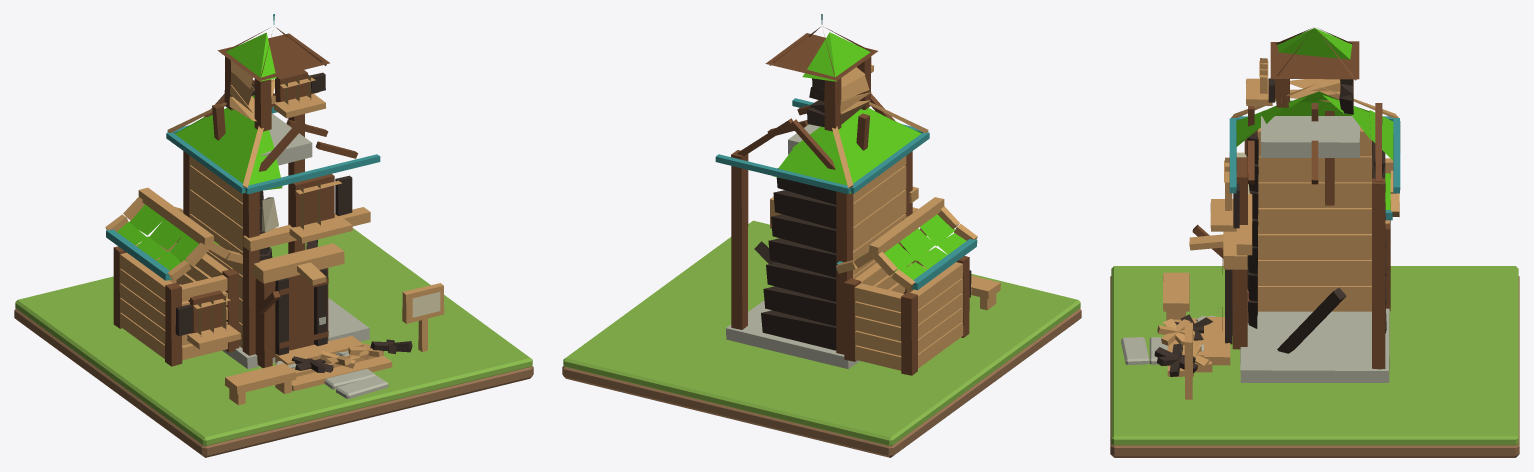
Rendered from town_hall_l04_damaged_LOD2.glb.
3 views of the same model, side by side, from view 1: azimuth 30°, elevation 25°; view 2: azimuth 150°, elevation 25°; view 3: azimuth 270°, elevation 25° (orthographic). The views are drawn at different scales.
Visible parts, largest first — view 1: town_hall_l04_damaged_foundation.001, town_hall_l04_damaged_grass_tile.001, town_hall_l04_damaged_earth_tile.001, town_hall_l04_damaged_path_stone.005, town_hall_l04_damaged_path_stone.004; view 2: town_hall_l04_damaged_foundation.001, town_hall_l04_damaged_grass_tile.001, town_hall_l04_damaged_earth_tile.001; view 3: town_hall_l04_damaged_foundation.001, town_hall_l04_damaged_grass_tile.001, town_hall_l04_damaged_earth_tile.001, town_hall_l04_damaged_path_stone.005.
Boxes of the visible parts, <box> form: town_hall_l04_damaged_foundation.001: <box>105,14,444,405</box>; town_hall_l04_damaged_grass_tile.001: <box>15,228,532,445</box>; town_hall_l04_damaged_earth_tile.001: <box>14,308,533,457</box>; town_hall_l04_damaged_path_stone.005: <box>336,375,388,398</box>; town_hall_l04_damaged_path_stone.004: <box>324,368,376,389</box>; town_hall_l04_damaged_foundation.001: <box>715,14,1000,375</box>; town_hall_l04_damaged_grass_tile.001: <box>563,220,1080,445</box>; town_hall_l04_damaged_earth_tile.001: <box>562,308,1081,457</box>; town_hall_l04_damaged_foundation.001: <box>1154,28,1400,399</box>; town_hall_l04_damaged_grass_tile.001: <box>1111,266,1518,445</box>; town_hall_l04_damaged_earth_tile.001: <box>1110,276,1519,457</box>; town_hall_l04_damaged_path_stone.005: <box>1121,337,1149,364</box>.
Size of the model in its own units: 3.6 by 3.48 by 3.6.
